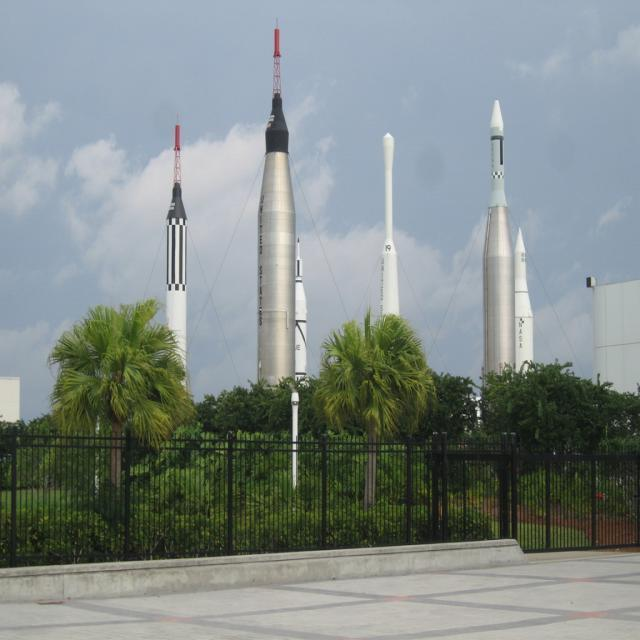missile: (249, 19, 305, 404), (485, 101, 526, 412), (163, 182, 194, 429), (374, 121, 410, 324), (290, 236, 309, 390)
